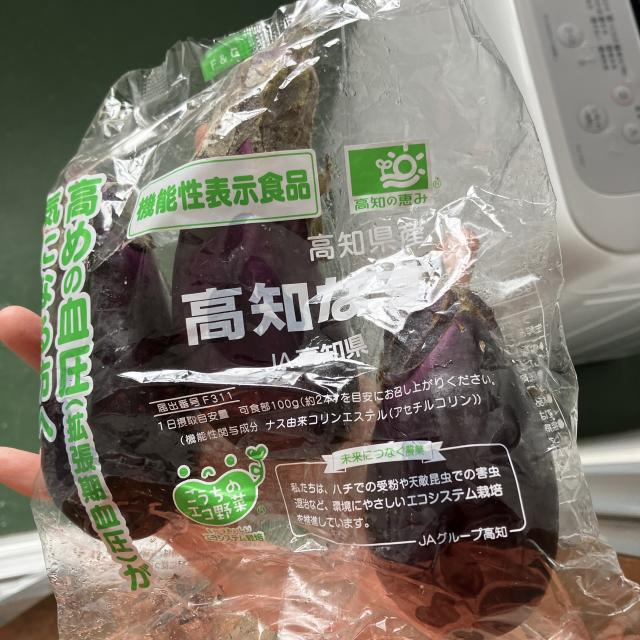eggplant: (168, 44, 359, 458), (361, 263, 563, 640), (41, 179, 203, 546)
